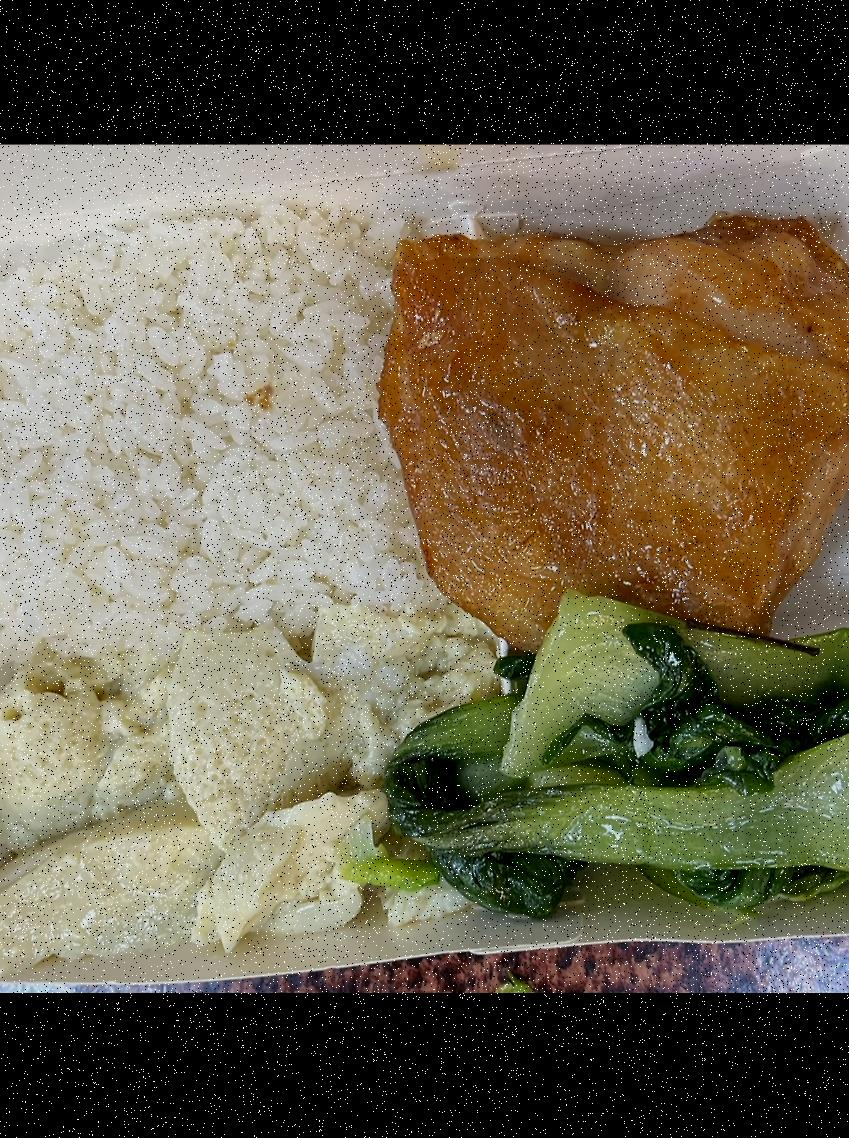box: (0, 144, 849, 993)
grilled chicken leg steak: (368, 220, 849, 669)
side dish: (0, 619, 482, 975), (378, 581, 849, 928)
white rice: (0, 207, 426, 678)
